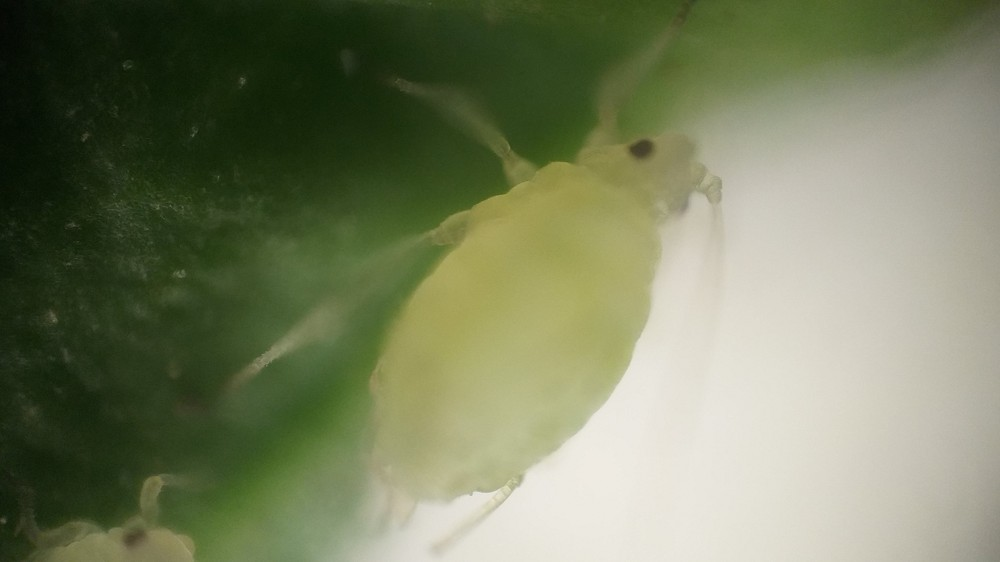Pulgon: (257, 12, 748, 561)
